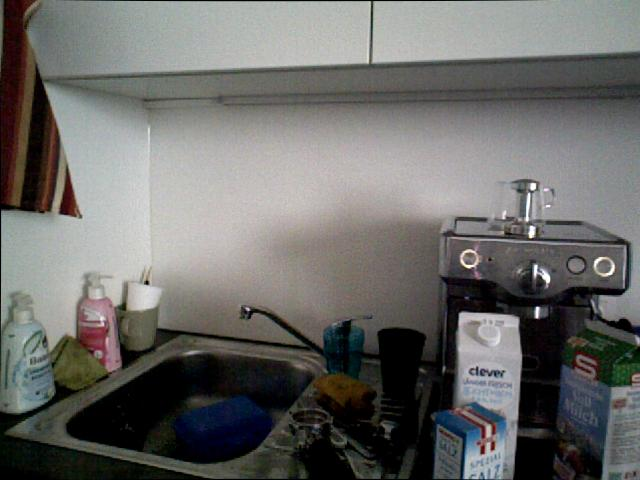bench: (559, 314, 640, 480), (453, 314, 517, 480), (0, 293, 56, 414), (76, 268, 121, 372)
couch: (70, 340, 320, 471)
handbag: (490, 176, 556, 238), (376, 326, 426, 401), (321, 323, 367, 378), (116, 304, 159, 348)
